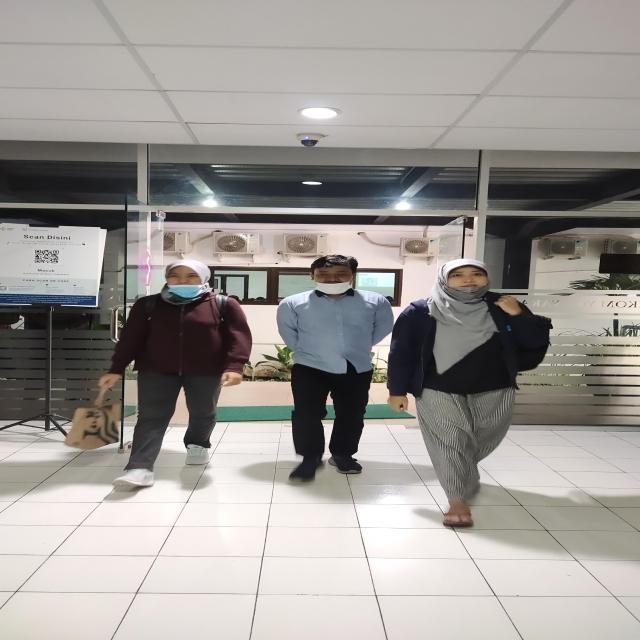hairnet: (436, 257, 494, 306), (160, 257, 216, 300), (308, 254, 360, 296)
